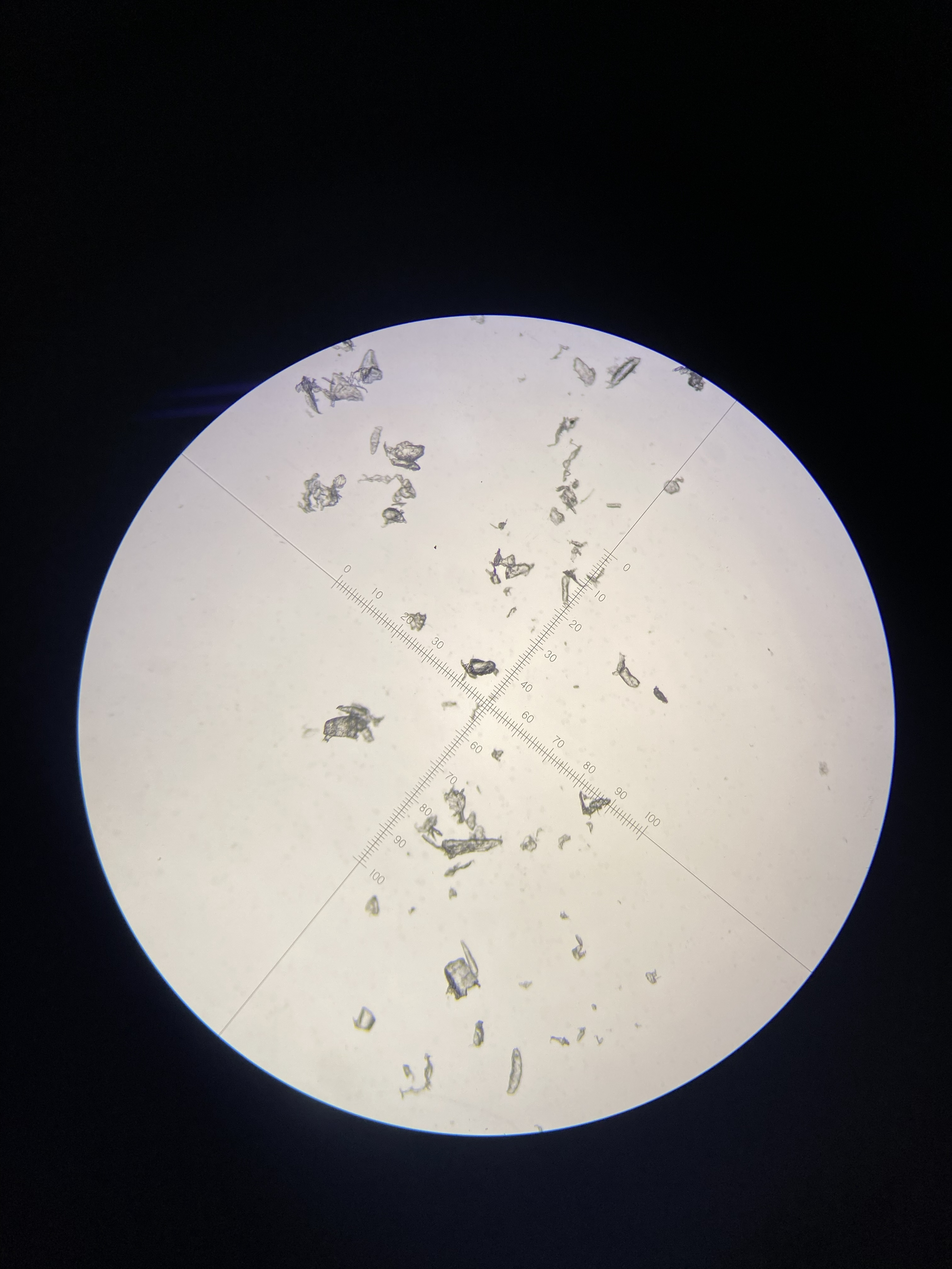microplastic: (294, 350, 382, 414), (358, 473, 416, 527), (420, 827, 504, 860), (323, 705, 383, 742), (444, 941, 479, 1000), (298, 473, 347, 513), (484, 548, 535, 584), (561, 568, 606, 608), (399, 1054, 433, 1099), (443, 785, 476, 828), (383, 442, 425, 470), (606, 358, 641, 389), (612, 653, 639, 689), (579, 791, 611, 820), (562, 439, 583, 482), (548, 417, 579, 446), (672, 367, 705, 392), (555, 480, 579, 514), (413, 815, 443, 842), (460, 659, 498, 680), (573, 357, 596, 386), (507, 1048, 521, 1094), (352, 1006, 375, 1032), (520, 828, 542, 853), (444, 860, 474, 877), (570, 540, 587, 562), (663, 477, 684, 494), (370, 427, 383, 454), (572, 935, 586, 959), (407, 614, 426, 631), (331, 340, 356, 352), (365, 896, 379, 917), (549, 507, 565, 525), (653, 686, 668, 704), (473, 1020, 483, 1047), (469, 701, 480, 722), (550, 1035, 570, 1046), (558, 835, 572, 849), (490, 519, 507, 530), (645, 972, 658, 984), (441, 701, 457, 709), (492, 749, 503, 760), (519, 980, 532, 989), (577, 1027, 585, 1041), (506, 607, 516, 618), (503, 586, 513, 595), (594, 1035, 603, 1045), (585, 822, 593, 833), (449, 888, 457, 898), (559, 912, 569, 918), (407, 907, 415, 914), (634, 1023, 642, 1029), (607, 504, 621, 507), (592, 1004, 596, 1009)
